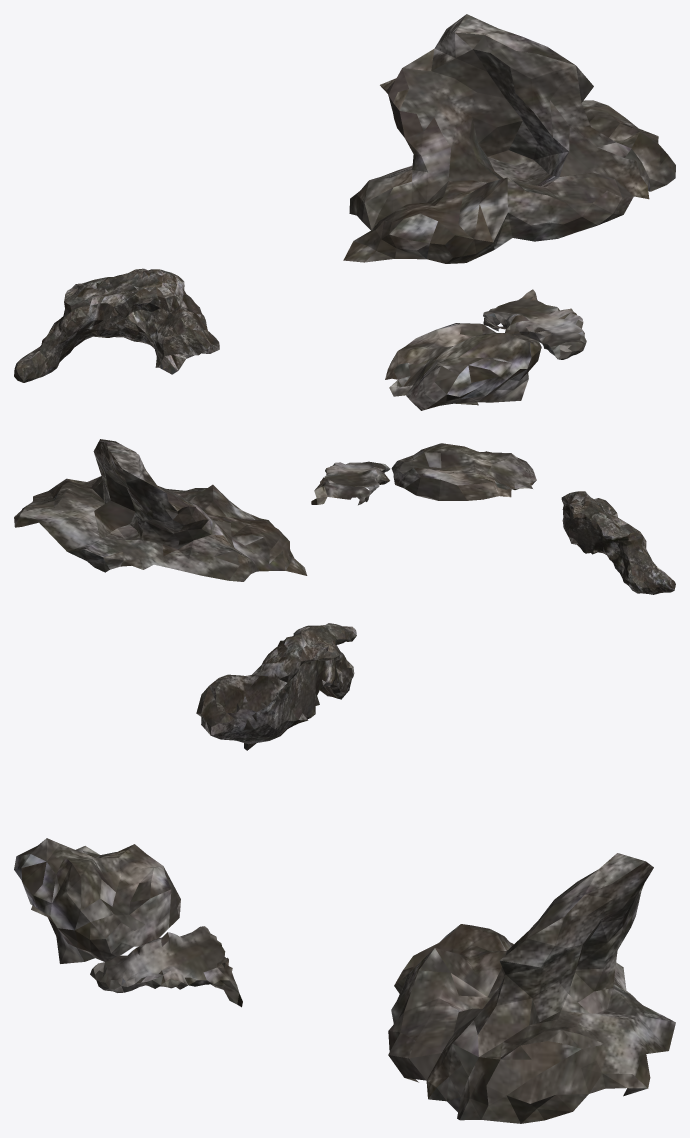
The model's file is Tutorial Forest Modular.fbx.
3 renders of one model, top to bottom at view 1: azimuth 30°, elevation 25°; view 2: azimuth 150°, elevation 25°; view 3: azimuth 270°, elevation 25°, orthographic. The views are drawn at different scales.
Visible parts, largest first — view 1: AntNestBoulder, Wallrun Surface, GroundBoulder, RockyBridgeThings; view 2: AntNestBoulder, GroundBoulder, Wallrun Surface, RockyBridgeThings; view 3: AntNestBoulder, GroundBoulder, Wallrun Surface, RockyBridgeThings.
Boxes of the visible parts, left/top/right/bottom form: AntNestBoulder: left=343, top=14, right=675, bottom=263; Wallrun Surface: left=14, top=268, right=219, bottom=382; GroundBoulder: left=385, top=323, right=541, bottom=410; RockyBridgeThings: left=483, top=289, right=586, bottom=359; AntNestBoulder: left=14, top=439, right=307, bottom=581; GroundBoulder: left=391, top=443, right=536, bottom=500; Wallrun Surface: left=561, top=491, right=675, bottom=594; RockyBridgeThings: left=311, top=461, right=390, bottom=505; AntNestBoulder: left=388, top=853, right=675, bottom=1123; GroundBoulder: left=14, top=838, right=180, bottom=963; Wallrun Surface: left=196, top=623, right=356, bottom=750; RockyBridgeThings: left=90, top=926, right=242, bottom=1007.
Size of the model in its own units: 19487 by 4364 by 12315.
